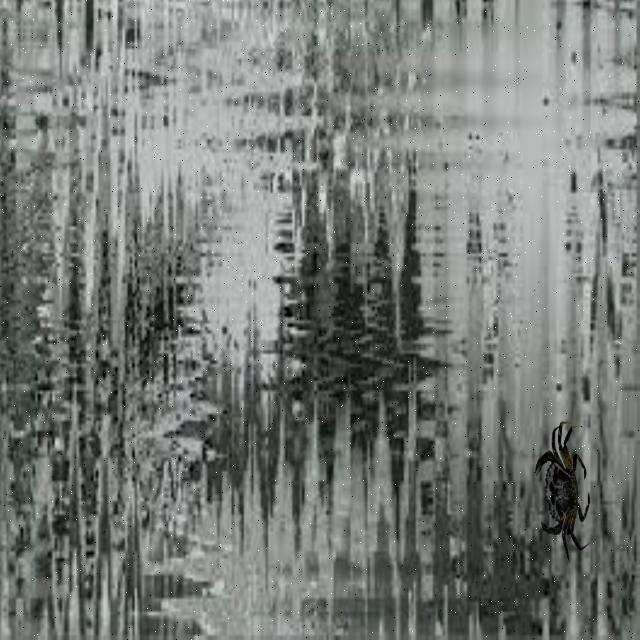European_Green_Crab: (531, 418, 595, 568)
